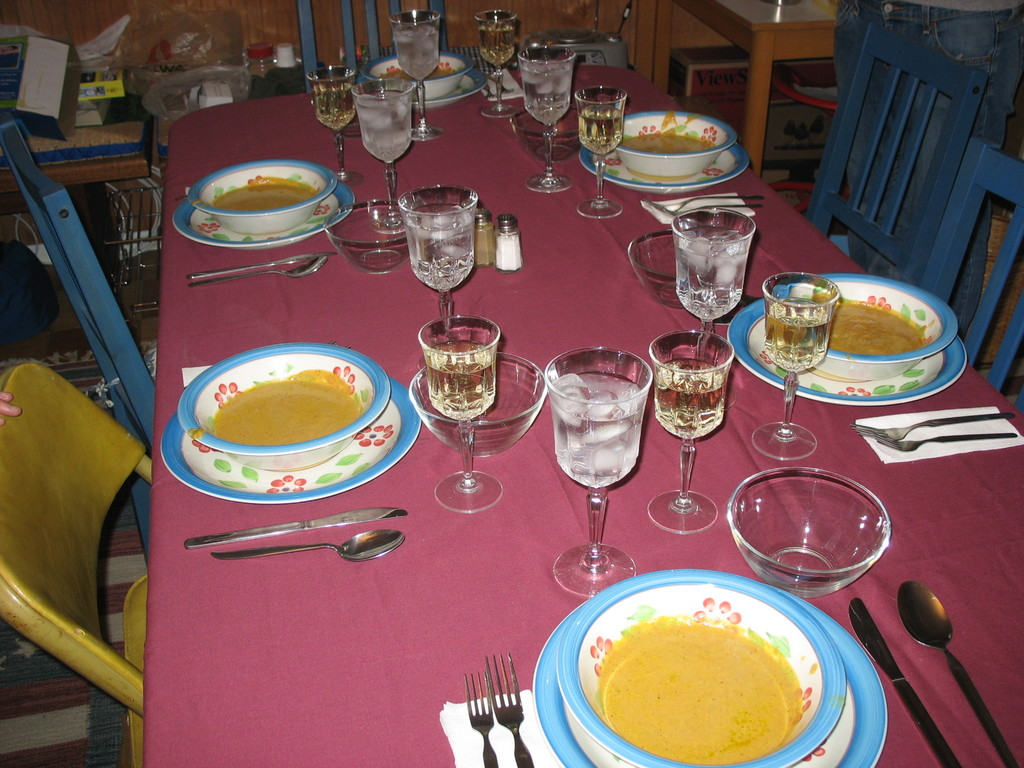plate: (529, 559, 875, 756)
